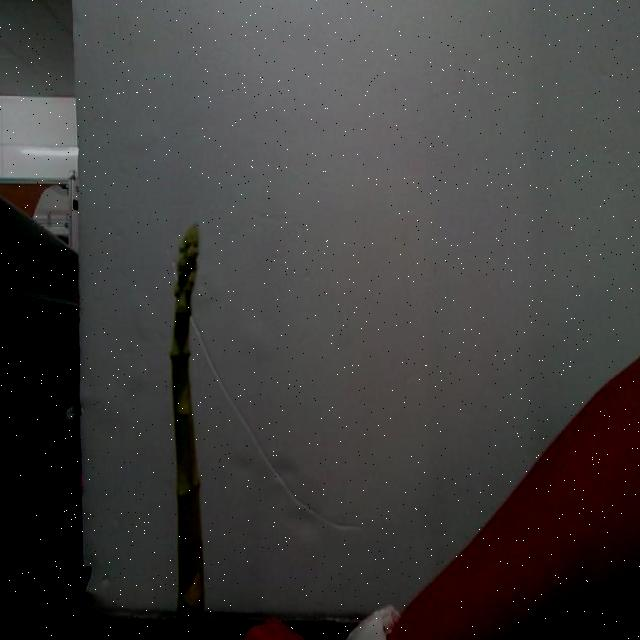aspargus: (171, 225, 206, 640)
